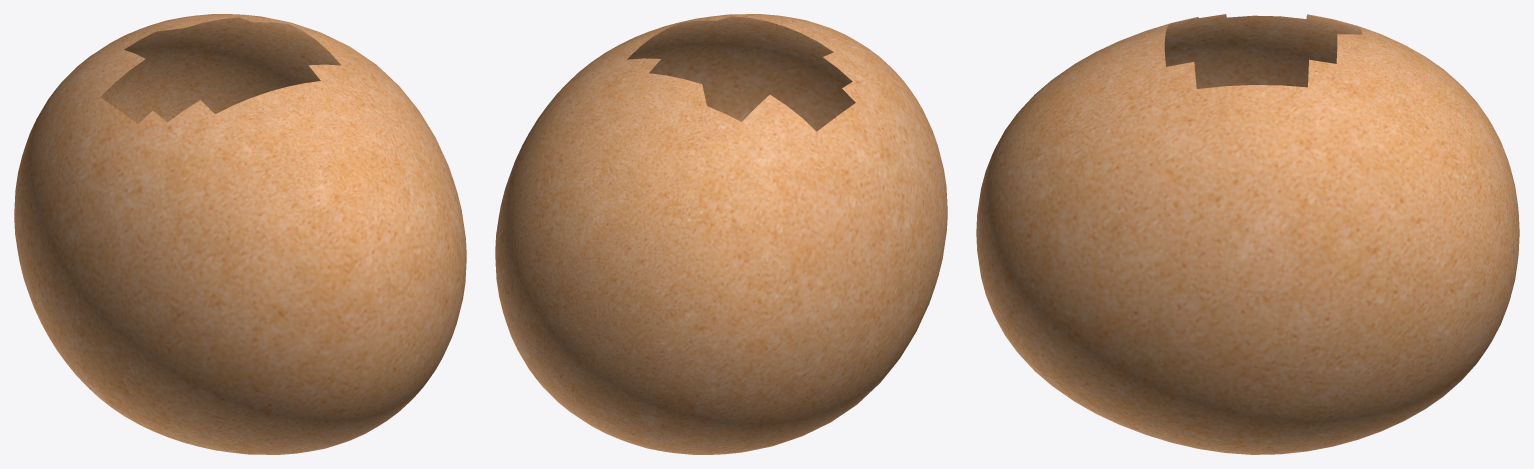
The model's file is huevo.obj.
3 renders of one model, left to right at view 1: azimuth 30°, elevation 25°; view 2: azimuth 150°, elevation 25°; view 3: azimuth 270°, elevation 25°, orthographic. The views are drawn at different scales.
Parts seen in each view (by area): view 1: huevo; view 2: huevo; view 3: huevo.
Boxes of the visible parts, x1,y1,x2,y2 form: huevo: (14,14,466,454); huevo: (495,14,947,454); huevo: (976,14,1519,454).
Size of the model in its own units: 2.17 by 2.13 by 2.69.
Materials: 1 (1 with a texture image).
